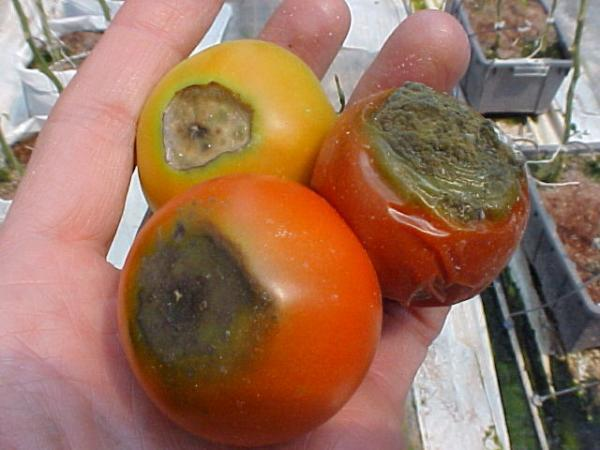blossom_rotw: (362, 87, 525, 240), (128, 223, 283, 383), (155, 63, 265, 186)
